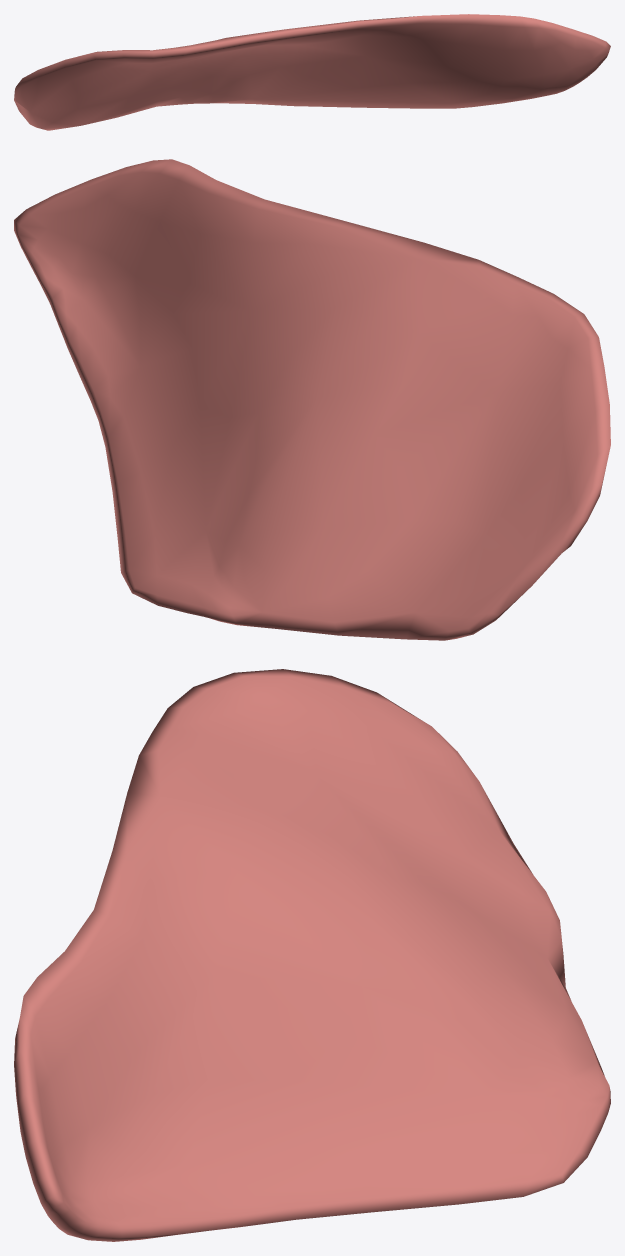
3 views of the same model, one above another, from view 1: azimuth 30°, elevation 25°; view 2: azimuth 150°, elevation 25°; view 3: azimuth 270°, elevation 25° (orthographic). The views are drawn at different scales.
Visible parts, largest first — view 1: ZA_3ba434fd0679c9e8; view 2: ZA_3ba434fd0679c9e8; view 3: ZA_3ba434fd0679c9e8.
Part boxes in pixels (box(x1,y1,x2,y2)): ZA_3ba434fd0679c9e8: box(14, 14, 610, 130); ZA_3ba434fd0679c9e8: box(14, 159, 610, 640); ZA_3ba434fd0679c9e8: box(14, 669, 610, 1241).
Bounding box in the file's own units: 0.0209 × 0.00696 × 0.0117.
